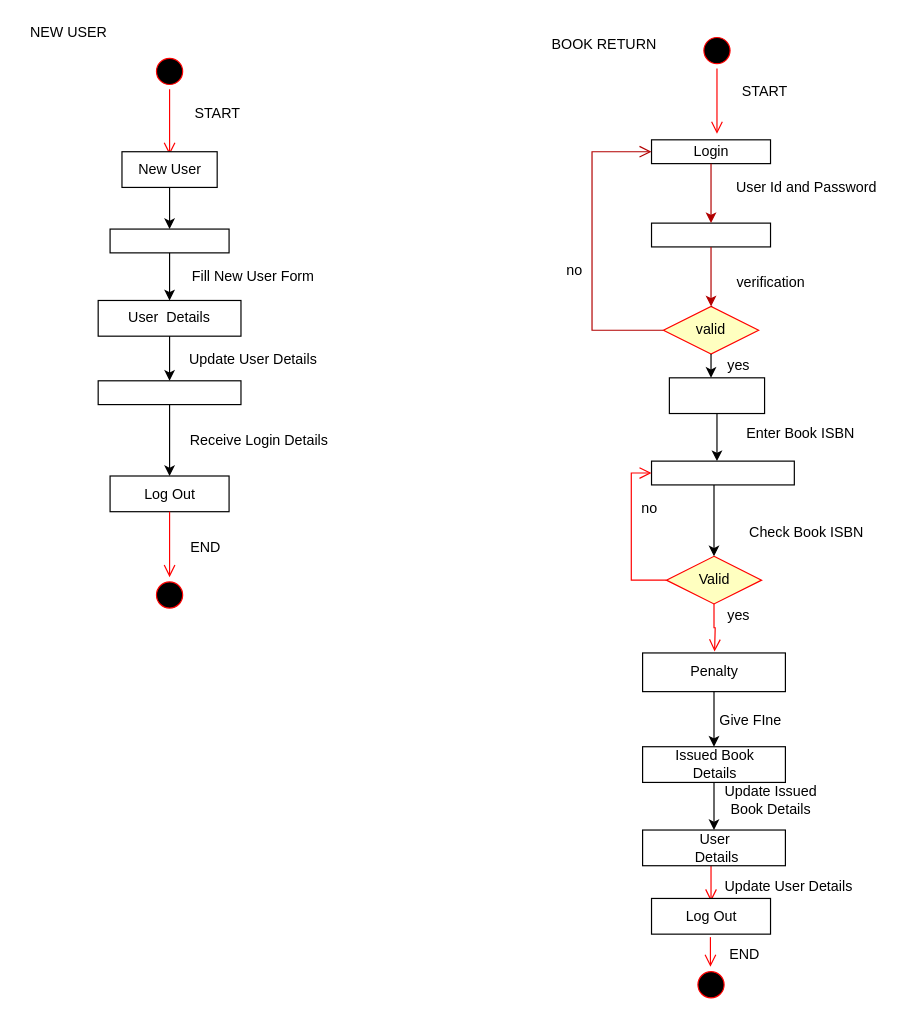
Image size: 909x1023. Some labels were removed from this diagram. Here are the shapes that lost their labels. From the top down, the centre of each, then its label:
At (169,240): "details".
At (710,234): "Authenticate".
At (169,392): "Login details".
At (716,395): "Return Book".
At (722,472): "Book ISBN".
